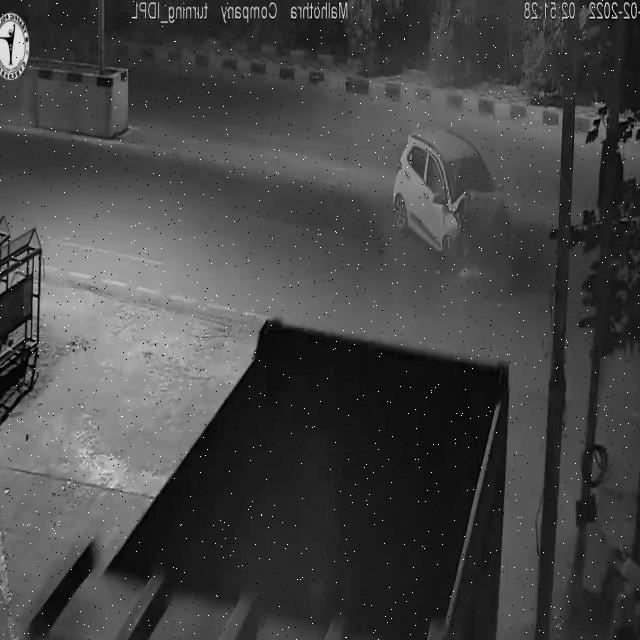accident: (385, 113, 521, 285)
